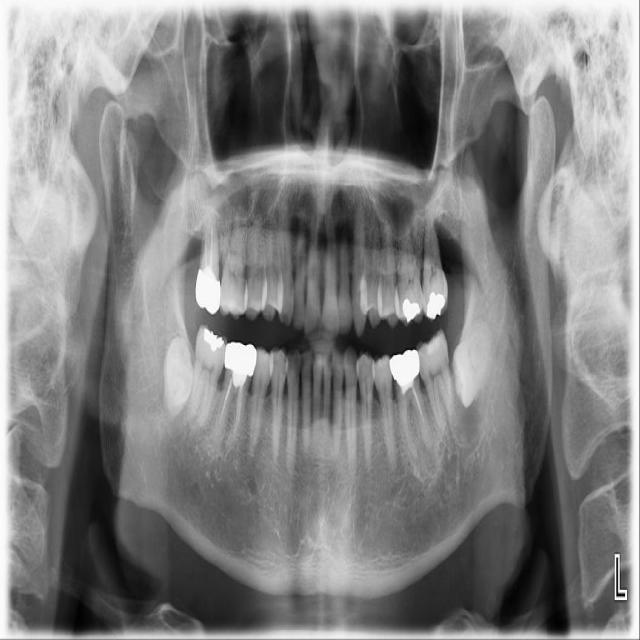52: (186, 323, 233, 385), (386, 347, 426, 394), (391, 276, 426, 329), (221, 341, 258, 387), (422, 265, 448, 321), (194, 267, 222, 315)
73: (392, 380, 437, 465), (208, 372, 252, 457), (199, 196, 223, 268), (610, 561, 622, 574)
BioHorizons Implant: (420, 192, 449, 321)
Biomet 3i Implant: (431, 315, 514, 409)
Blue Sky Bio Implant: (412, 327, 459, 441)
Caries: (194, 195, 225, 315)
Implant: (184, 324, 231, 436)
Keystone Dental Implant: (162, 334, 195, 419)
